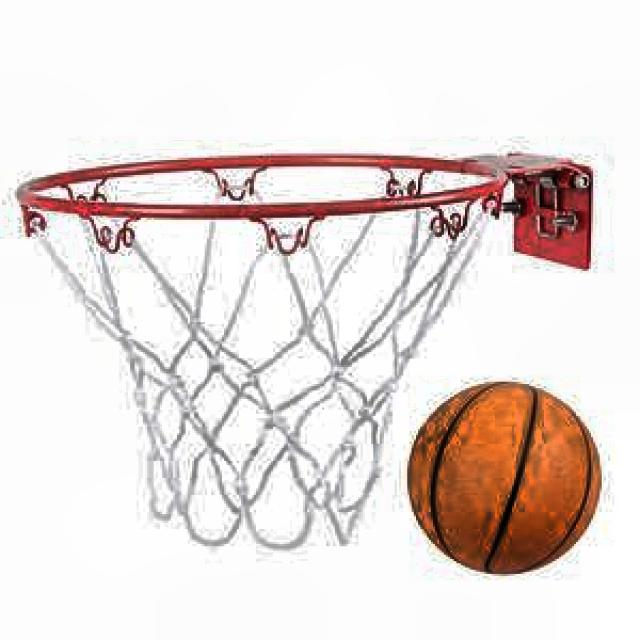board: (410, 379, 604, 575)
rim: (16, 159, 500, 549)
